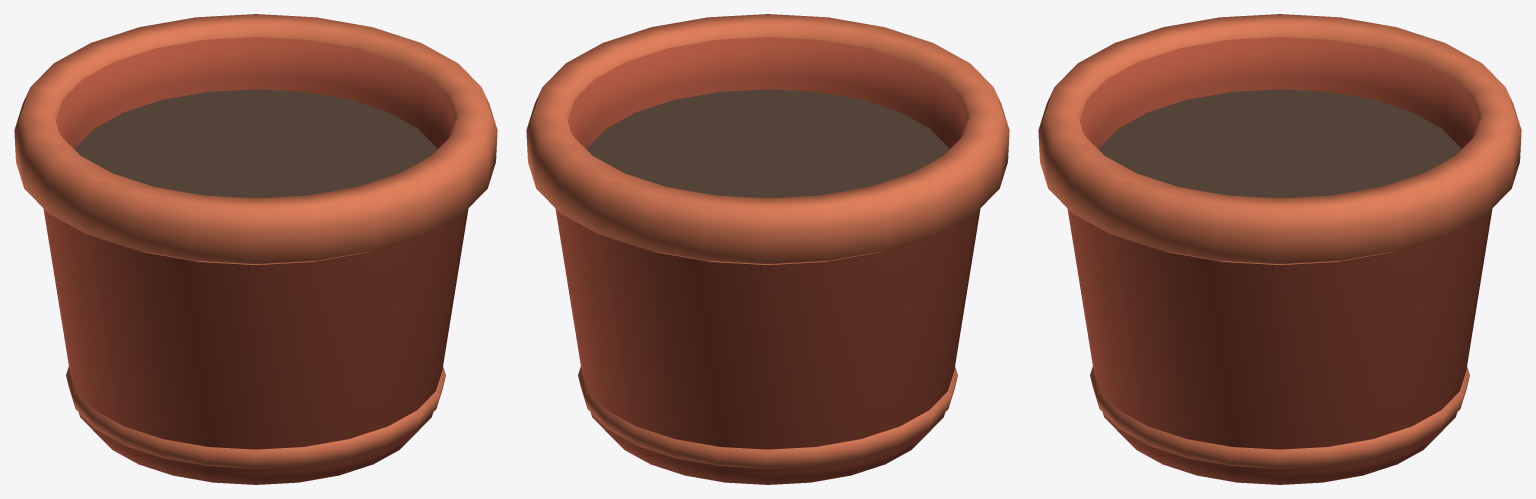
The model's file is pot.glb.
3 renders of one model, left to right at view 1: azimuth 30°, elevation 25°; view 2: azimuth 150°, elevation 25°; view 3: azimuth 270°, elevation 25°, orthographic.
Parts seen in each view (by area): view 1: Pot, Soil; view 2: Pot, Soil; view 3: Pot, Soil.
Part boxes in pixels (<box>): Pot: <box>14,14,497,484</box>; Soil: <box>75,89,436,198</box>; Pot: <box>526,14,1009,484</box>; Soil: <box>587,89,948,198</box>; Pot: <box>1038,14,1521,484</box>; Soil: <box>1099,89,1460,198</box>.
Size of the model in its own units: 0.3 by 0.207 by 0.3.
